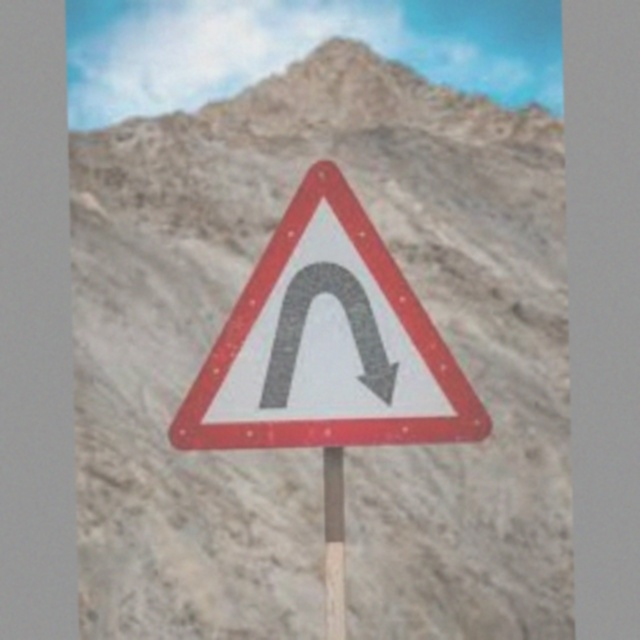Right_Hair_Pin_Bend: (184, 162, 491, 446)
